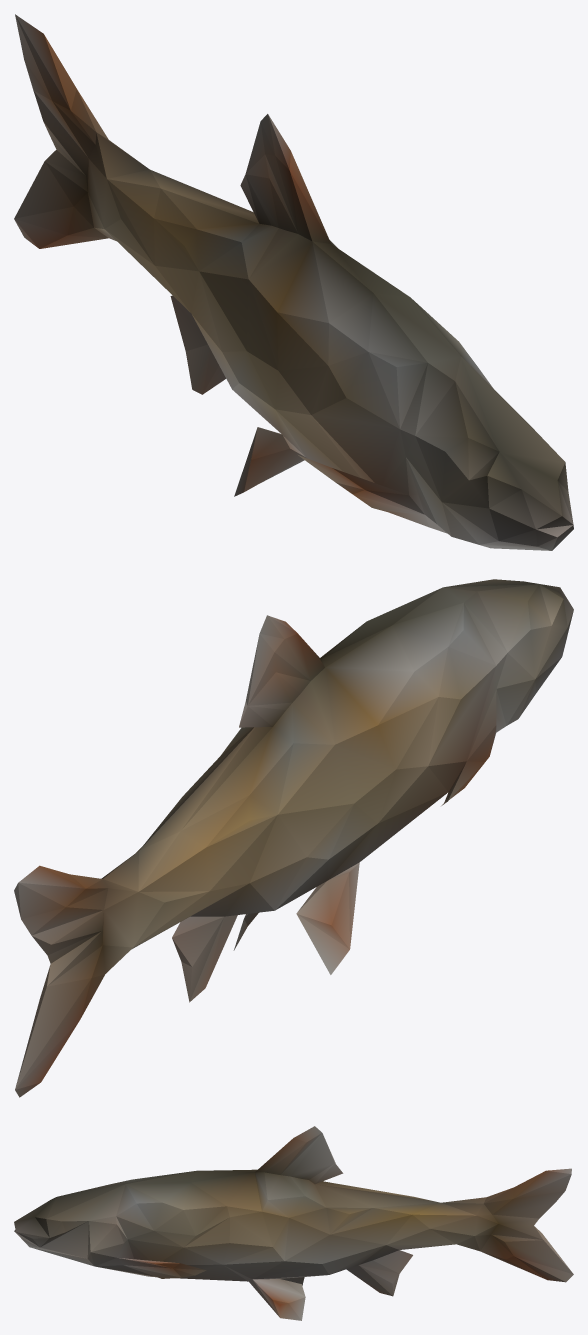
File: fish-hwangeo-lo.glb
3 renders of one model, top to bottom at view 1: azimuth 30°, elevation 25°; view 2: azimuth 150°, elevation 25°; view 3: azimuth 270°, elevation 25°, orthographic. The views are drawn at different scales.
Visible parts, largest first — view 1: geometry_0; view 2: geometry_0; view 3: geometry_0.
Part boxes in pixels (x1=…): geometry_0: x1=14, y1=14, x2=573, y2=550; geometry_0: x1=14, y1=579, x2=573, y2=1097; geometry_0: x1=14, y1=1126, x2=573, y2=1320.
Size of the model in its own units: 0.3154 by 0.6921 by 1.91.
